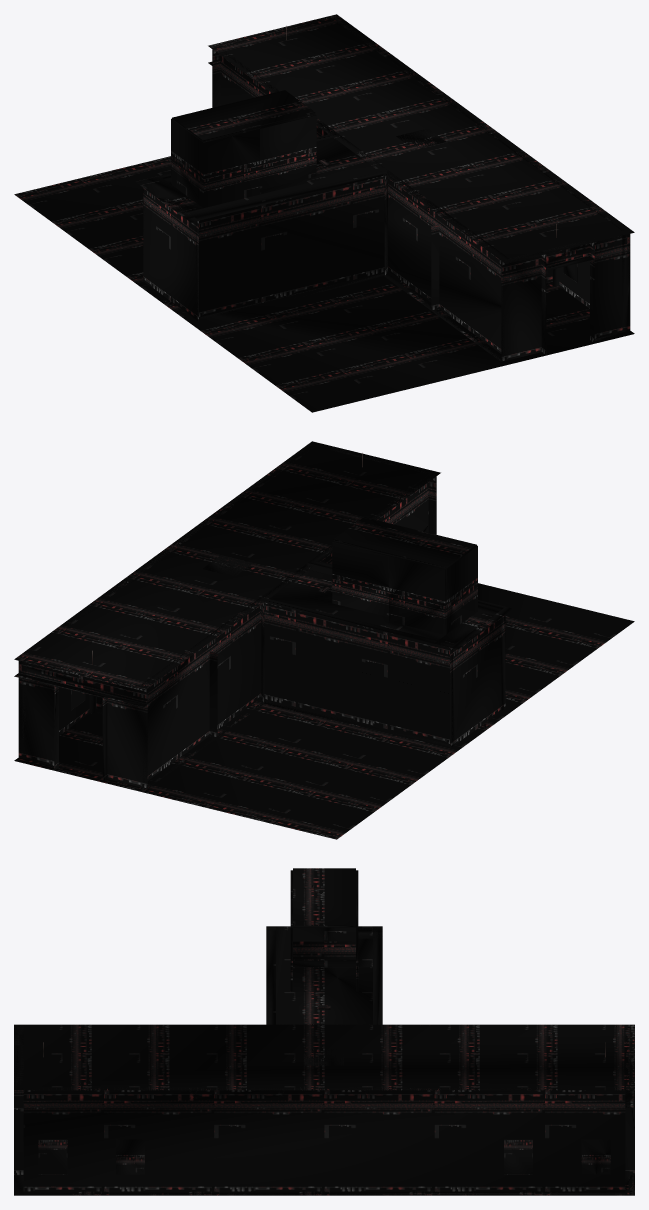
The model's file is room2doors_opt.obj.
The picture shows the model from 3 angles, top to bottom: view 1: azimuth 30°, elevation 25°; view 2: azimuth 150°, elevation 25°; view 3: azimuth 270°, elevation 25°; orthographic projection. The views are drawn at different scales.
Size of the model in its own units: 64 by 32 by 102.
Materials: 7 (7 with a texture image).
